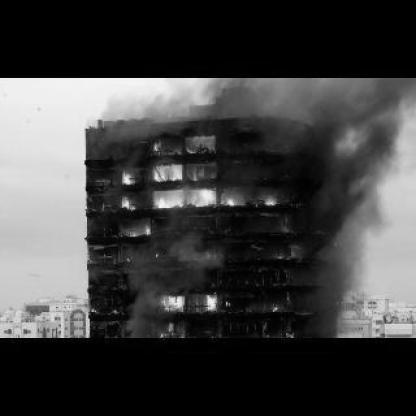fire: (188, 160, 220, 183), (185, 187, 218, 209), (155, 188, 184, 212), (155, 161, 184, 183), (221, 187, 250, 208), (156, 294, 185, 314), (198, 292, 220, 314), (269, 302, 280, 316)
